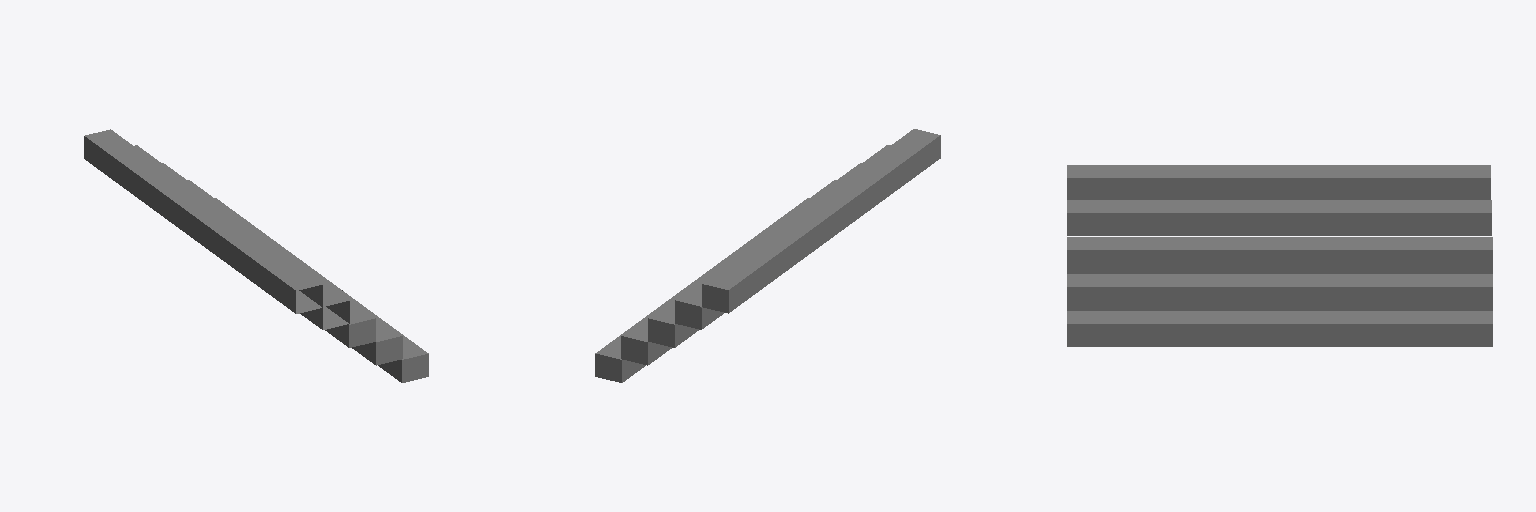
File: stairs.obj
3 views of the same model, side by side, from view 1: azimuth 30°, elevation 25°; view 2: azimuth 150°, elevation 25°; view 3: azimuth 270°, elevation 25° (orthographic).
Parts seen in each view (by area): view 1: Mesh4 Model, Mesh2 Model, Mesh1 Model, Mesh3 Model; view 2: Mesh4 Model, Mesh2 Model, Mesh1 Model, Mesh3 Model; view 3: Mesh4 Model, Mesh1 Model, Mesh2 Model, Mesh3 Model.
Part boxes in pixels (bbox=[...]): Mesh4 Model: bbox=[84, 129, 349, 329]; Mesh2 Model: bbox=[188, 180, 402, 365]; Mesh1 Model: bbox=[162, 163, 375, 347]; Mesh3 Model: bbox=[215, 198, 428, 382]; Mesh4 Model: bbox=[675, 129, 940, 329]; Mesh2 Model: bbox=[621, 180, 835, 365]; Mesh1 Model: bbox=[648, 163, 861, 347]; Mesh3 Model: bbox=[595, 198, 808, 382]; Mesh4 Model: bbox=[1067, 165, 1491, 235]; Mesh1 Model: bbox=[1067, 237, 1492, 273]; Mesh2 Model: bbox=[1067, 274, 1492, 310]; Mesh3 Model: bbox=[1067, 311, 1492, 346].
Size of the model in its own units: 42.29 by 36.09 by 118.